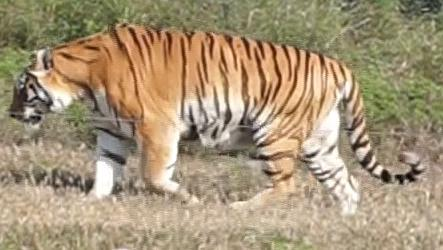tiger: (10, 24, 388, 213)
